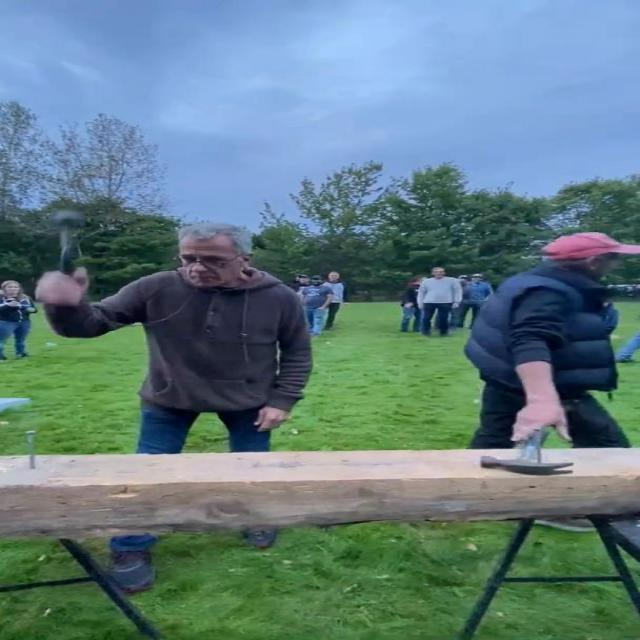hammer: (478, 425, 575, 476)
